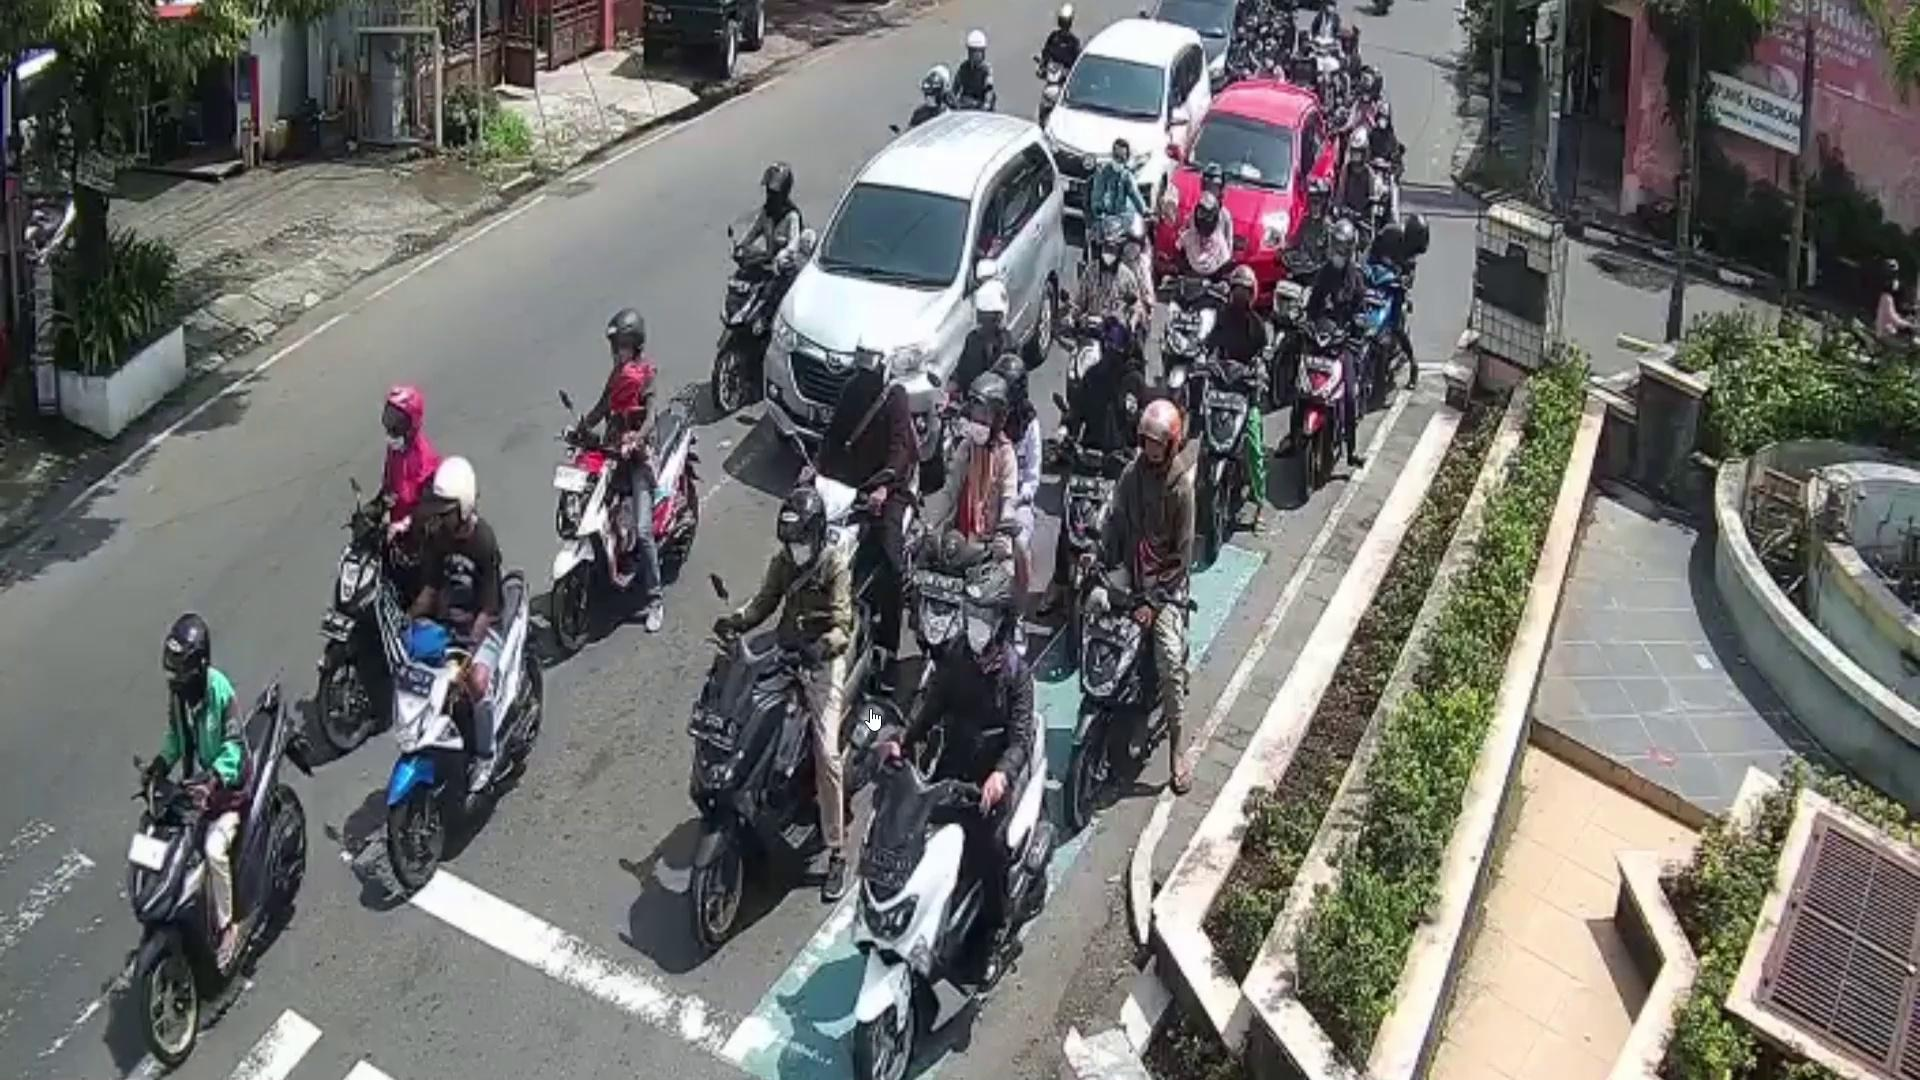car: (766, 107, 1068, 460), (1158, 78, 1338, 303), (1046, 18, 1207, 215), (1150, 0, 1266, 88)
motorbike: (851, 707, 1048, 1080), (125, 676, 313, 1068), (691, 596, 878, 953), (388, 575, 543, 905), (545, 405, 692, 650), (1069, 579, 1195, 825), (1191, 359, 1254, 562), (1288, 322, 1352, 506), (1354, 265, 1400, 405)
